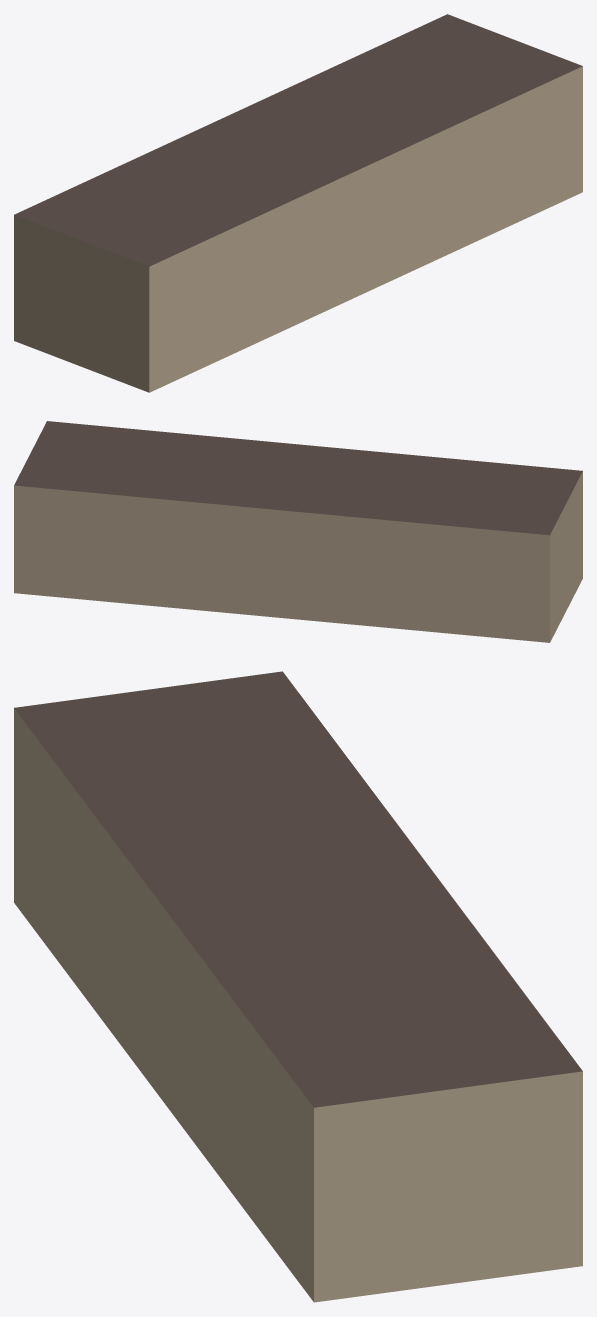
3 renders of one model, top to bottom at view 1: azimuth 30°, elevation 25°; view 2: azimuth 150°, elevation 25°; view 3: azimuth 270°, elevation 25°, orthographic. The views are drawn at different scales.
Parts seen in each view (by area): view 1: HP-w1323627519; view 2: HP-w1323627519; view 3: HP-w1323627519.
Part boxes in pixels (<box>): HP-w1323627519: <box>14,14,582,392</box>; HP-w1323627519: <box>14,421,582,642</box>; HP-w1323627519: <box>14,671,582,1302</box>.
Size of the model in its own units: 43.24 by 9 by 23.83.
